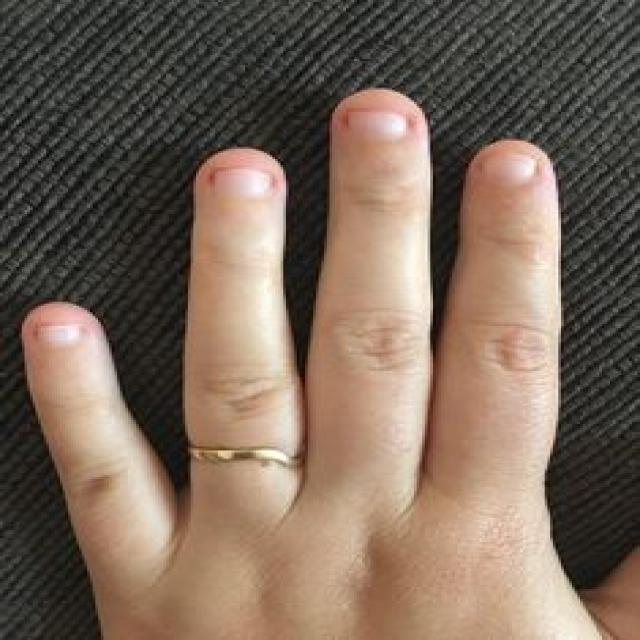Fingernail: (345, 109, 406, 143), (211, 166, 271, 199), (482, 152, 535, 189), (36, 324, 79, 347)
